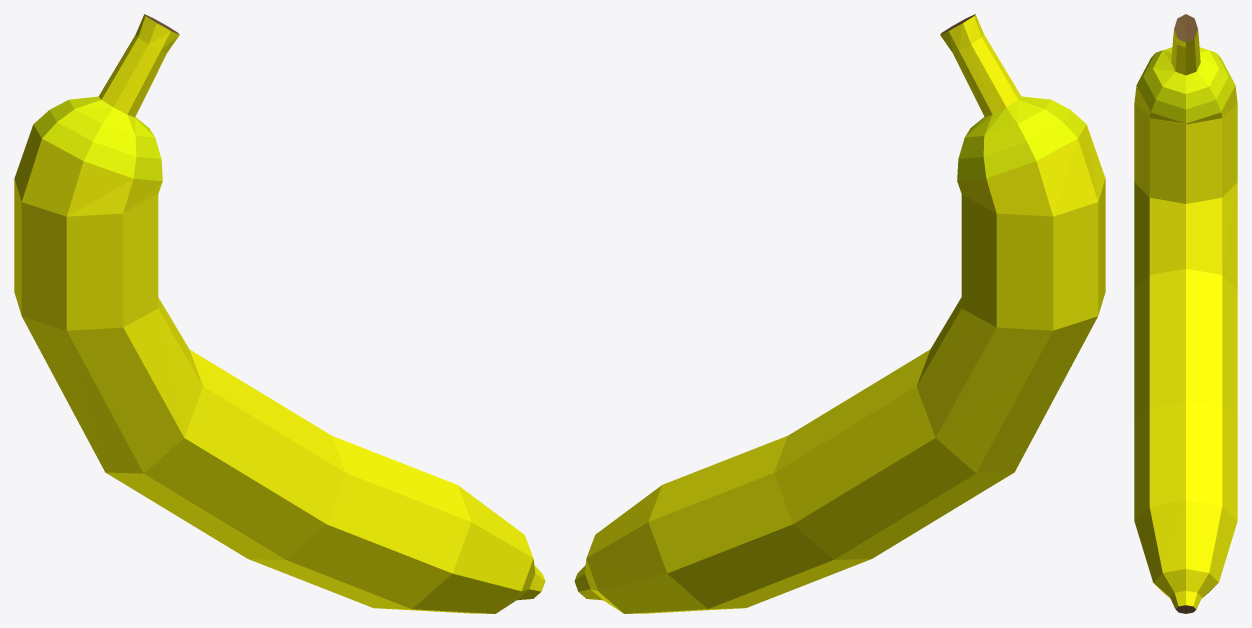
The model's file is Banana.fbx.
3 renders of one model, left to right at view 1: azimuth 30°, elevation 25°; view 2: azimuth 150°, elevation 25°; view 3: azimuth 270°, elevation 25°, orthographic. The views are drawn at different scales.
Visible parts, largest first — view 1: pCylinder1; view 2: pCylinder1; view 3: pCylinder1.
Part boxes in pixels (x1=…): pCylinder1: x1=14, y1=14, x2=545, y2=613; pCylinder1: x1=574, y1=14, x2=1105, y2=613; pCylinder1: x1=1134, y1=14, x2=1237, y2=613.
Size of the model in its own units: 6.18 by 7.67 by 1.52.
